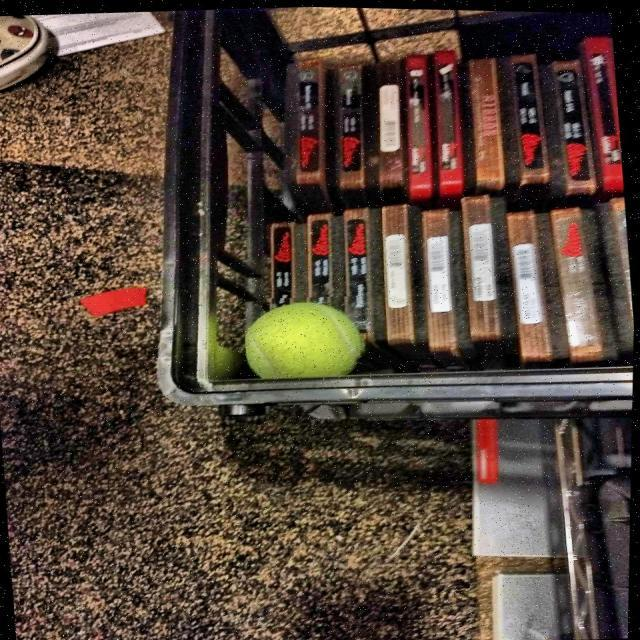tennis-ball: (242, 292, 370, 394)
